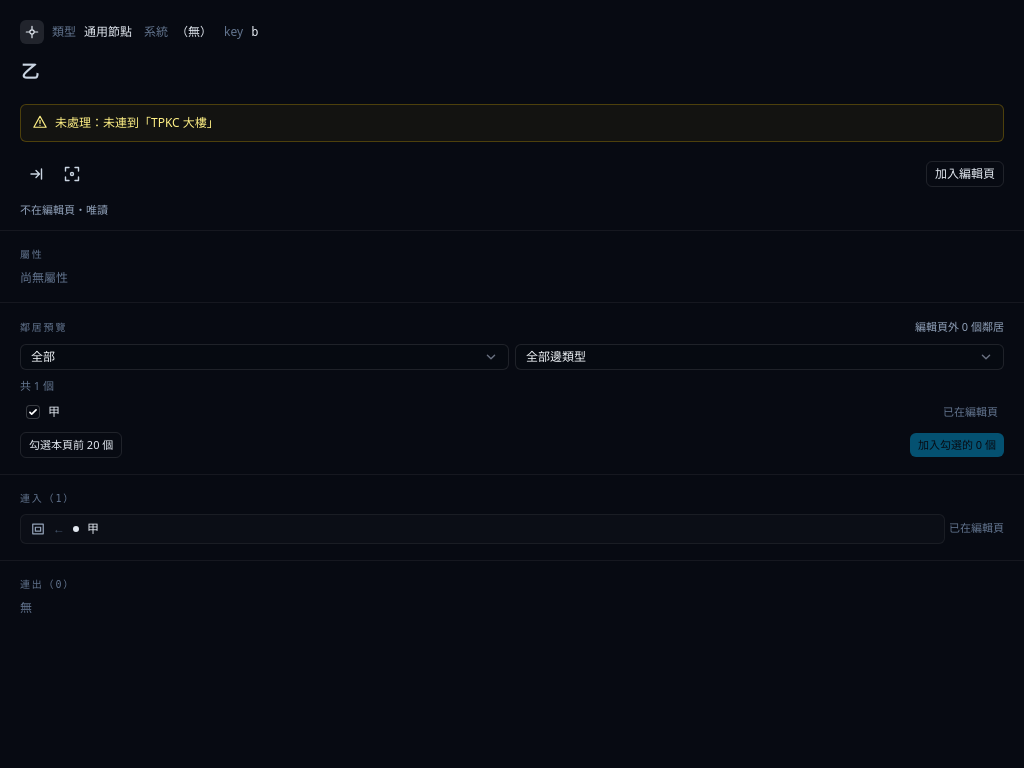
DetailPanel：工作區外的詳情 › 經其他路徑選到工作區外的節點：唯讀，只能先加入編輯頁
Expected: the field named "名稱" is disabled, [20,50,1004,92]
Expected: the text "不在編輯頁・唯讀" is shown, [20,202,108,216]
Click the button "加入編輯頁": (965, 174) [926,160,1004,186]
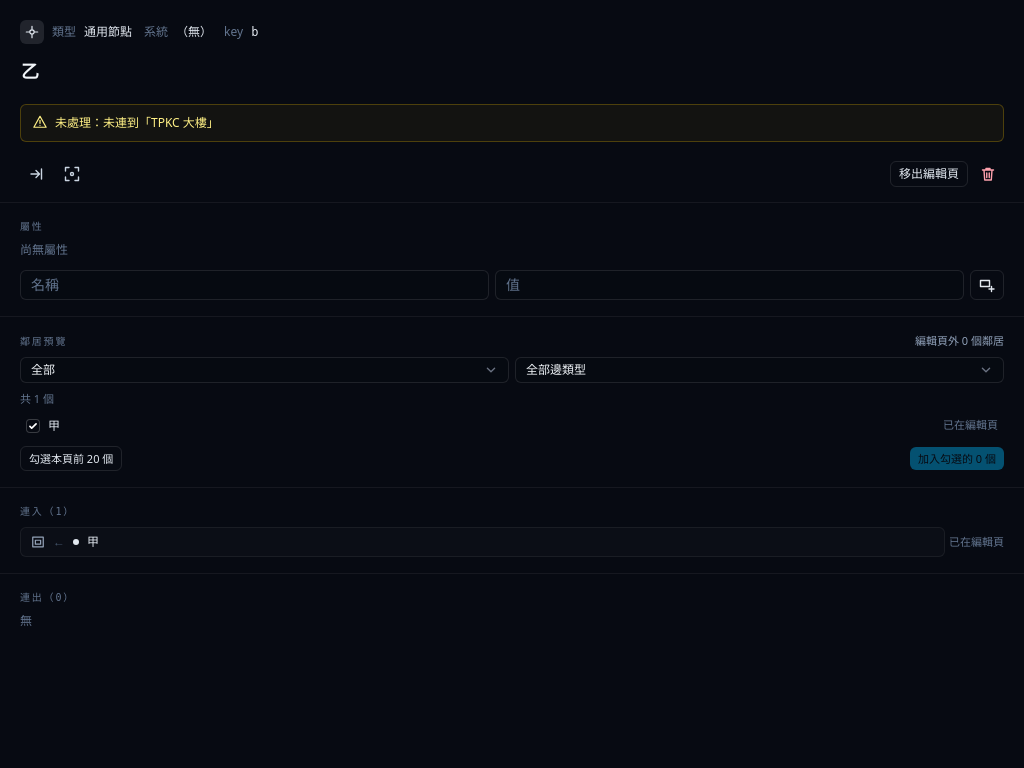
Expected: the field named "名稱" is enabled, [14,50,998,92]
Expected: the button named "刪除節點" is shown, [972,158,1004,190]
